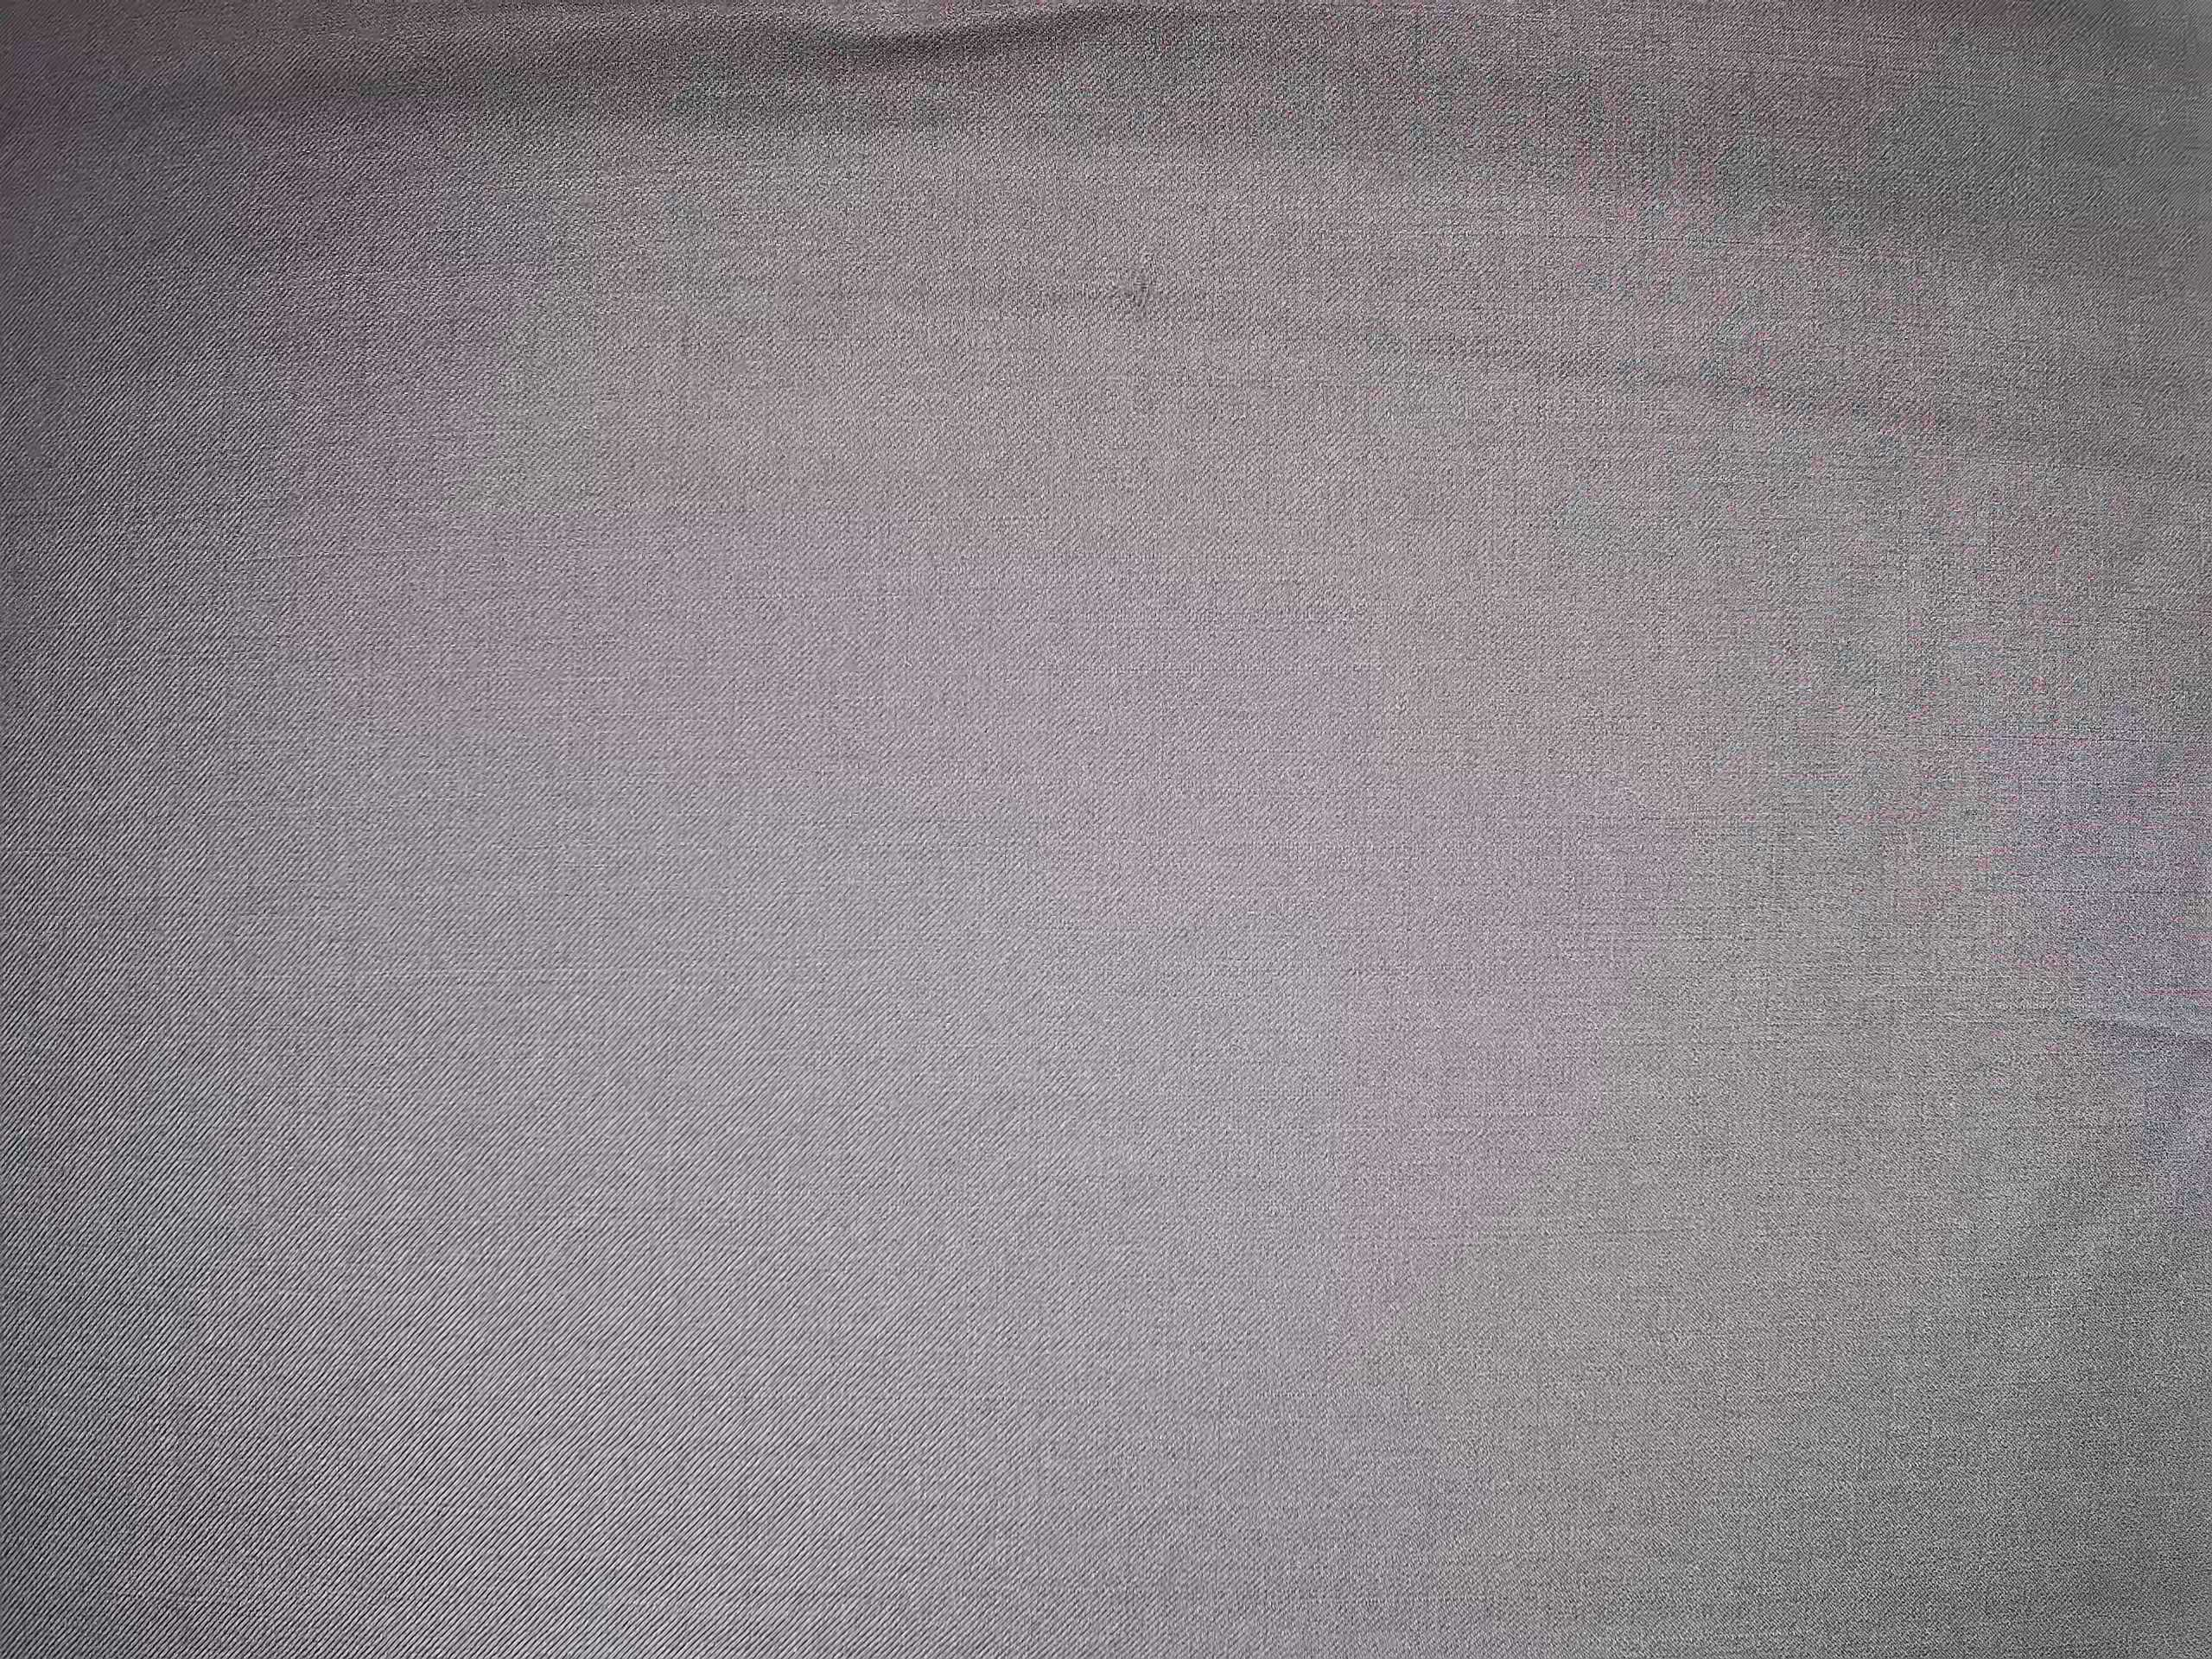thin-spinning: (965, 254, 1197, 343)
